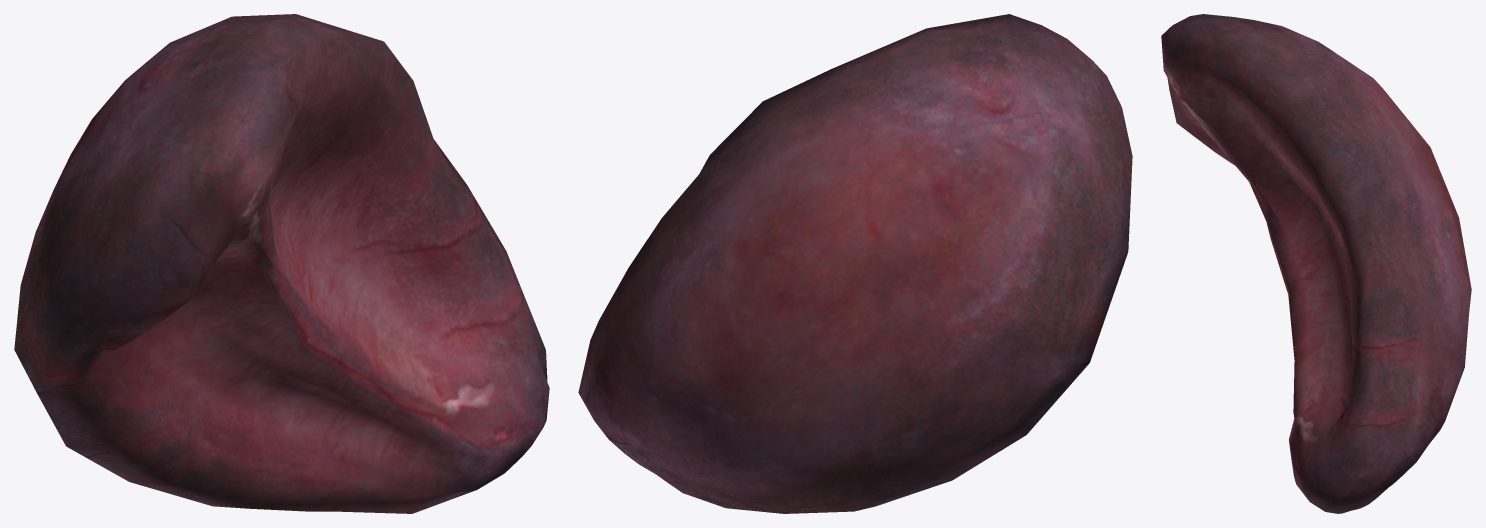
File: asset9.glb
The picture shows the model from 3 angles, left to right: view 1: azimuth 30°, elevation 25°; view 2: azimuth 150°, elevation 25°; view 3: azimuth 270°, elevation 25°; orthographic projection. The views are drawn at different scales.
Visible parts, largest first — view 1: Spleen_pivot; view 2: Spleen_pivot; view 3: Spleen_pivot.
Boxes of the visible parts, <box> form: Spleen_pivot: <box>14,14,549,513</box>; Spleen_pivot: <box>578,14,1132,513</box>; Spleen_pivot: <box>1161,14,1471,513</box>.
Size of the model in its own units: 0.1136 by 0.1103 by 0.0781.
Materials: 1 (1 with a texture image).
